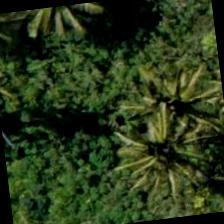Kelapa_Sawit: (107, 100, 207, 200)
